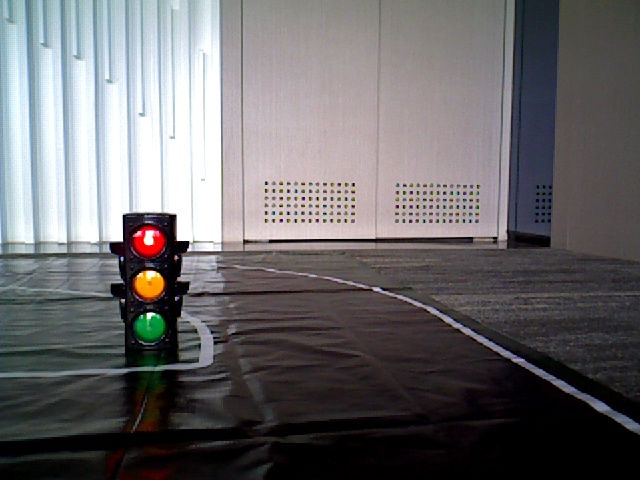red: (123, 219, 174, 355)
